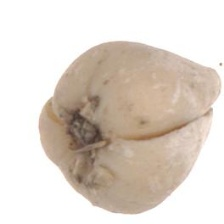L1: (50, 108, 104, 159), (199, 64, 221, 127)
L2: (37, 40, 221, 215)
